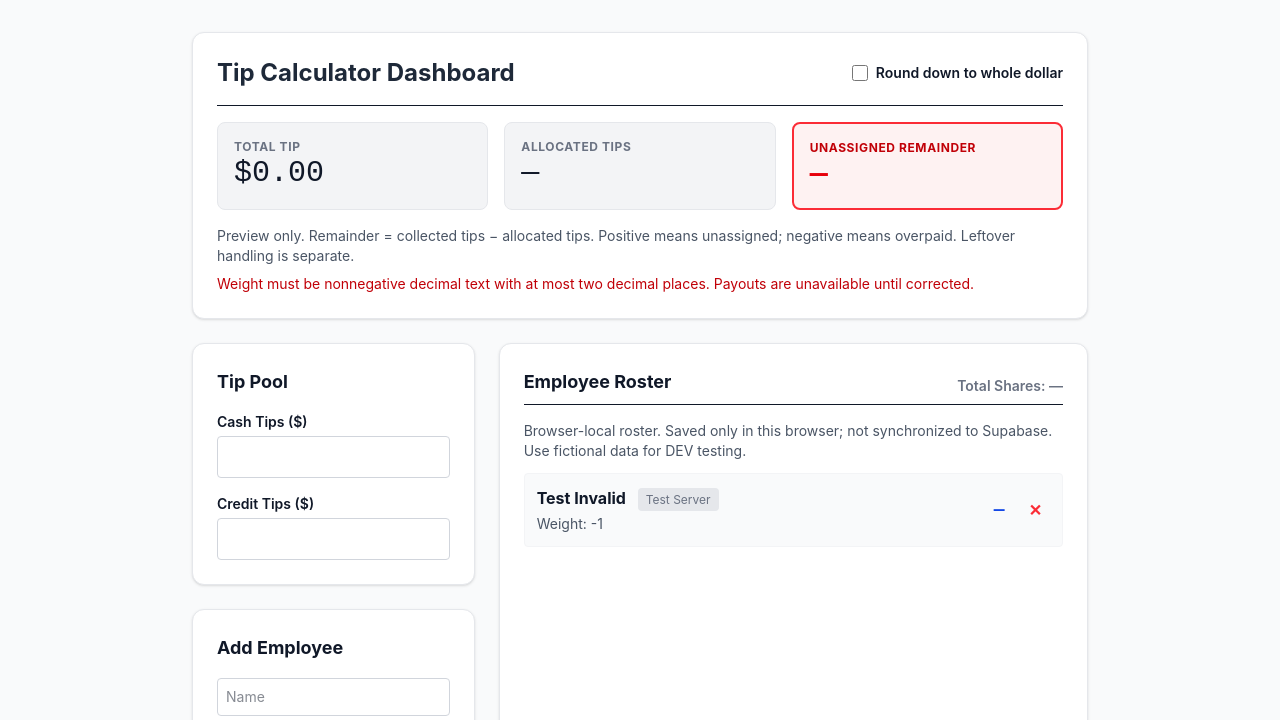
Test: TipSplitter interface › reports an invalid stored weight and restores payouts after removing the row
The width and height of the screenshot is (1280, 720).
Type "100" into the field labelled "Cash Tips ($)".
click(333, 457); type("100")  # box [217, 436, 450, 478]
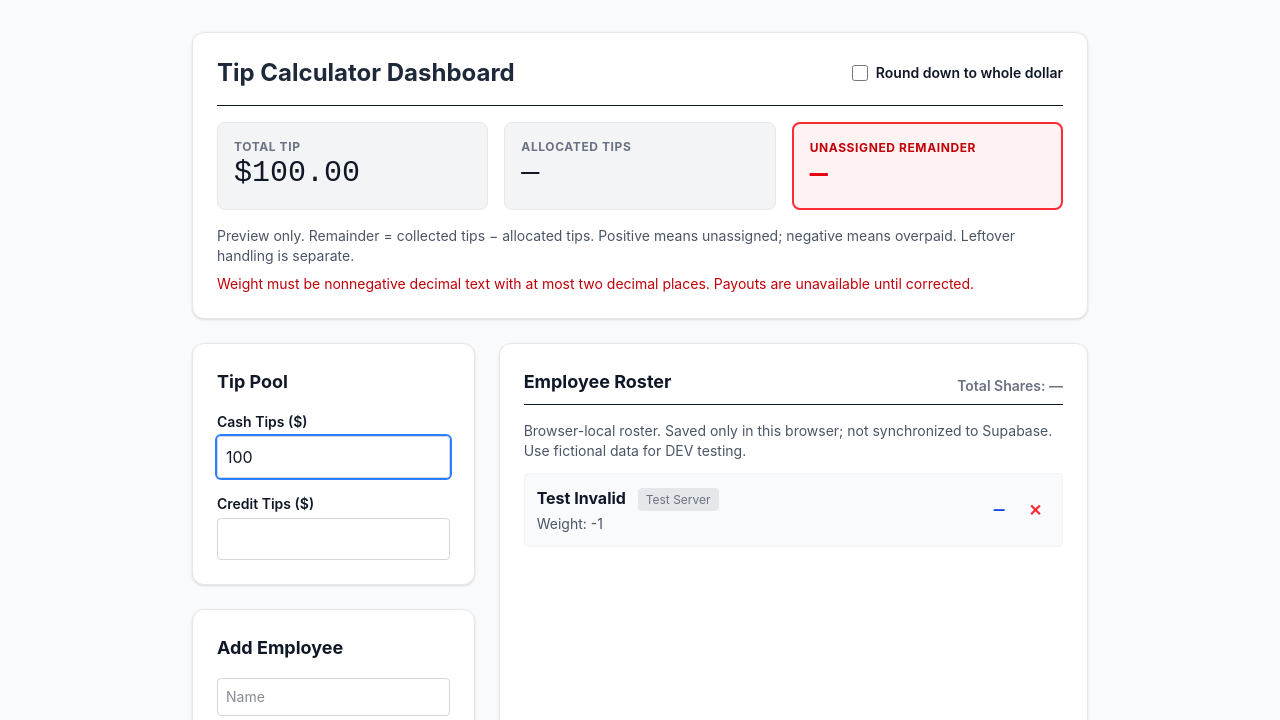
Expected: the message shows "Weight must be nonnegative", [217, 275, 710, 292]
Expected: the 1st text "—" is shown, [521, 156, 539, 190]
Click the button named "Remove Test Invalid".
click(1035, 510)  # box [1021, 494, 1050, 526]
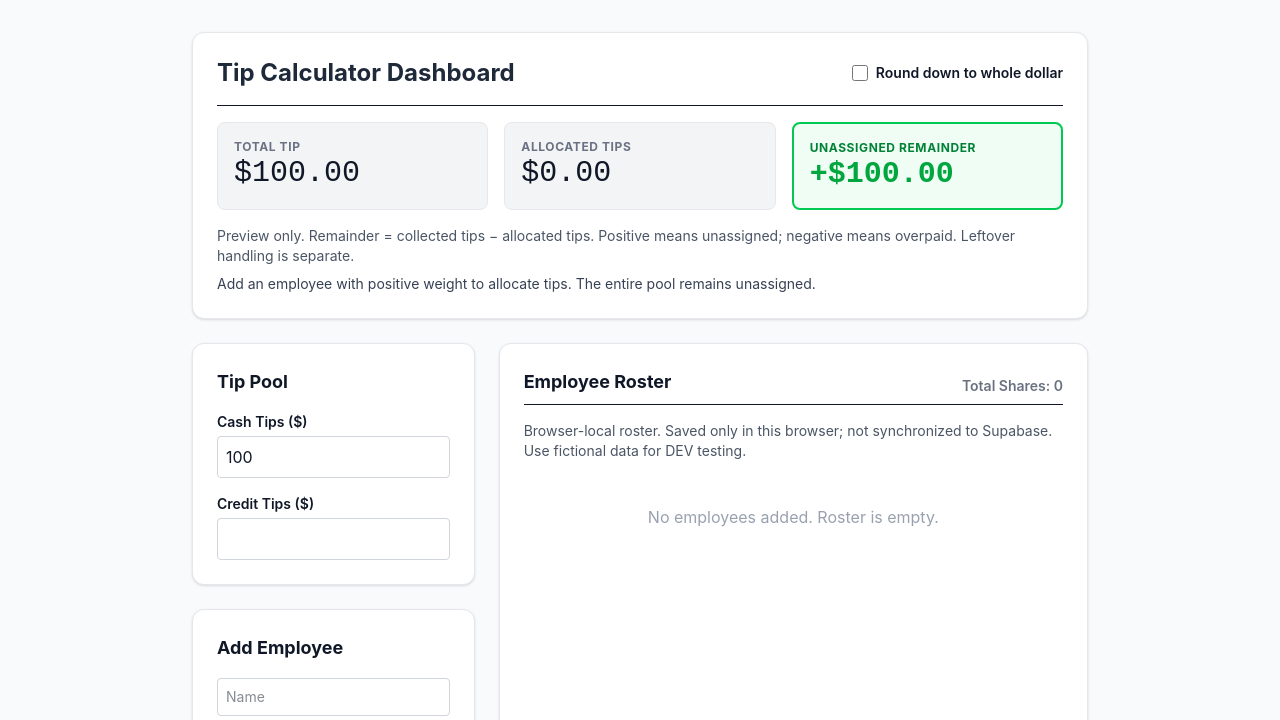
Expected: the text "+$100.00" is shown, [810, 157, 954, 191]
